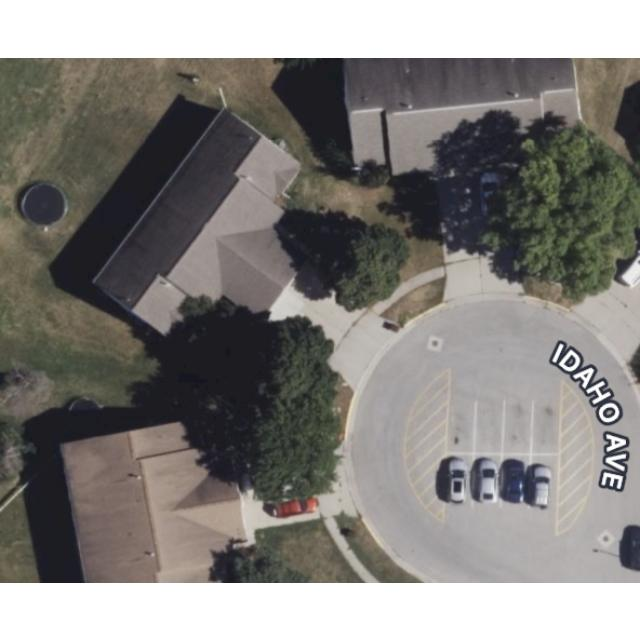Empty: (502, 401, 534, 453), (474, 402, 504, 452), (448, 401, 474, 453), (533, 403, 559, 453)
Parked: (472, 454, 502, 504), (531, 454, 559, 506), (502, 454, 530, 504), (448, 454, 474, 504)
